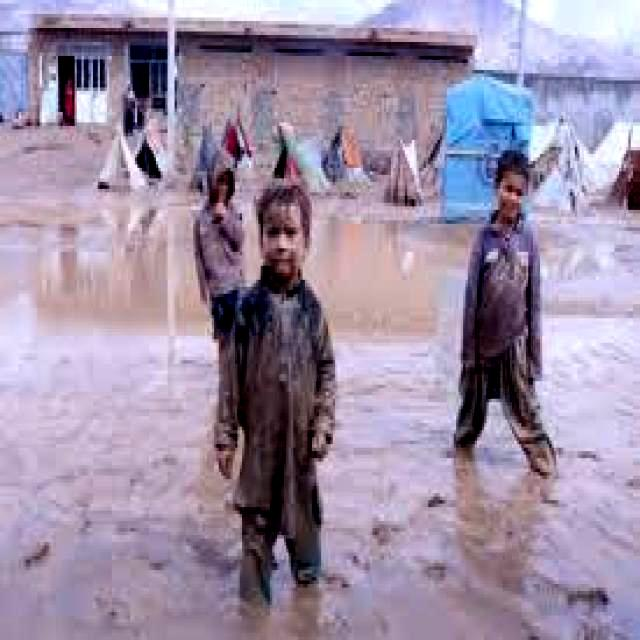civilian: (201, 183, 346, 602), (447, 142, 582, 474), (182, 146, 257, 338)
